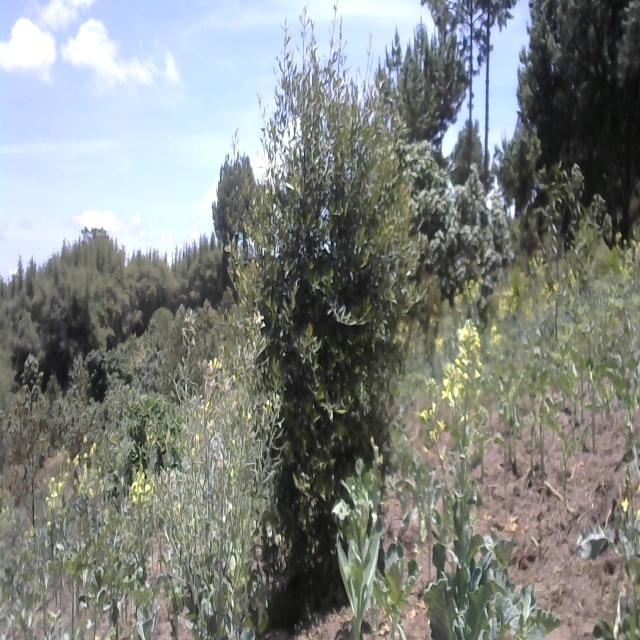Olea europea -africana-: (212, 0, 426, 574)
